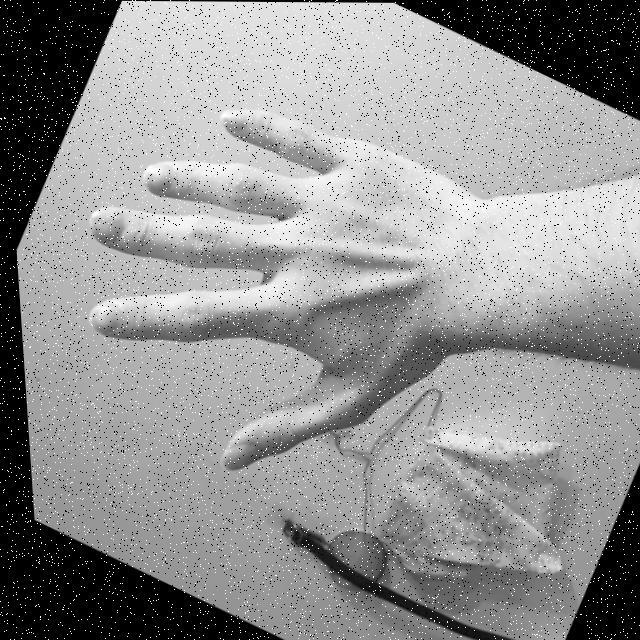no-gloves: (2, 36, 506, 530)
